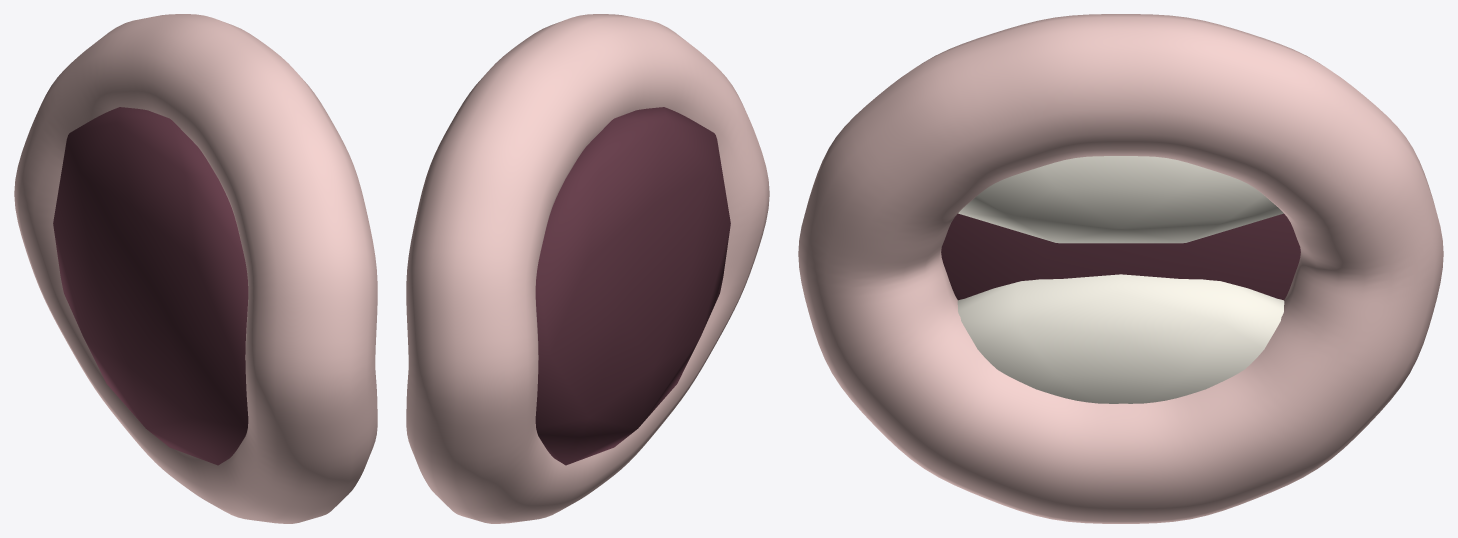
Rendered from creature.puffermouth.glb.
The picture shows the model from 3 angles, left to right: view 1: azimuth 30°, elevation 25°; view 2: azimuth 150°, elevation 25°; view 3: azimuth 270°, elevation 25°; orthographic projection. The views are drawn at different scales.
Parts seen in each view (by area): view 1: Pad, Dark; view 2: Pad, Dark; view 3: Pad, Claw, Dark.
Boxes of the visible parts, left/top/right/bottom form: Pad: left=14, top=14, right=377, bottom=523; Dark: left=53, top=107, right=248, bottom=465; Pad: left=406, top=14, right=769, bottom=523; Dark: left=535, top=107, right=730, bottom=465; Pad: left=798, top=14, right=1443, bottom=523; Claw: left=957, top=156, right=1284, bottom=403; Dark: left=941, top=213, right=1300, bottom=300.
Bounding box in the file's own units: 0.2122 × 0.581 × 0.6843.
